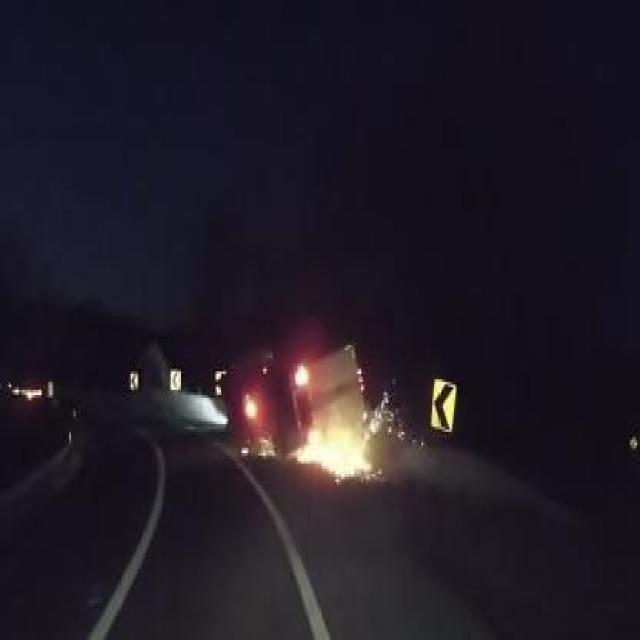accident: (208, 303, 409, 519)
